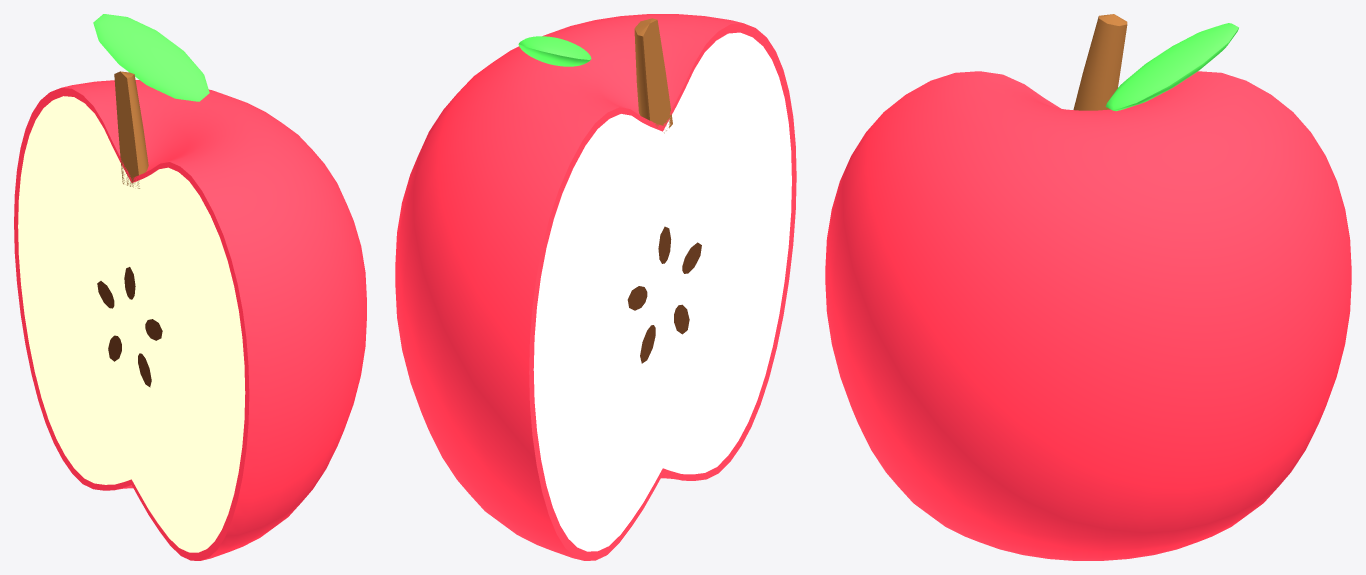
3 renders of one model, left to right at view 1: azimuth 30°, elevation 25°; view 2: azimuth 150°, elevation 25°; view 3: azimuth 270°, elevation 25°, orthographic. The views are drawn at different scales.
Parts seen in each view (by area): view 1: Apple-right; view 2: Apple-right; view 3: Apple-right.
Part boxes in pixels (bbox=[...]): Apple-right: bbox=[14, 14, 366, 560]; Apple-right: bbox=[395, 14, 796, 560]; Apple-right: bbox=[825, 14, 1351, 560].
Bounding box in the file's own units: 0.02 × 0.0417 × 0.0397.
